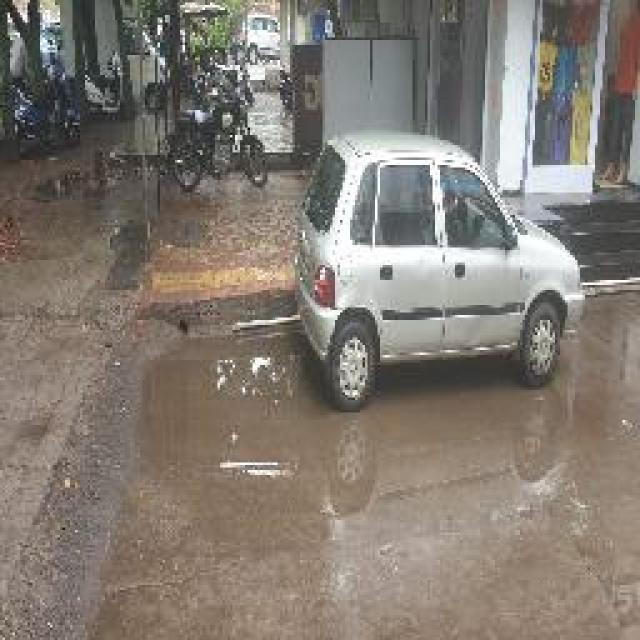puddle: (135, 338, 640, 566)
